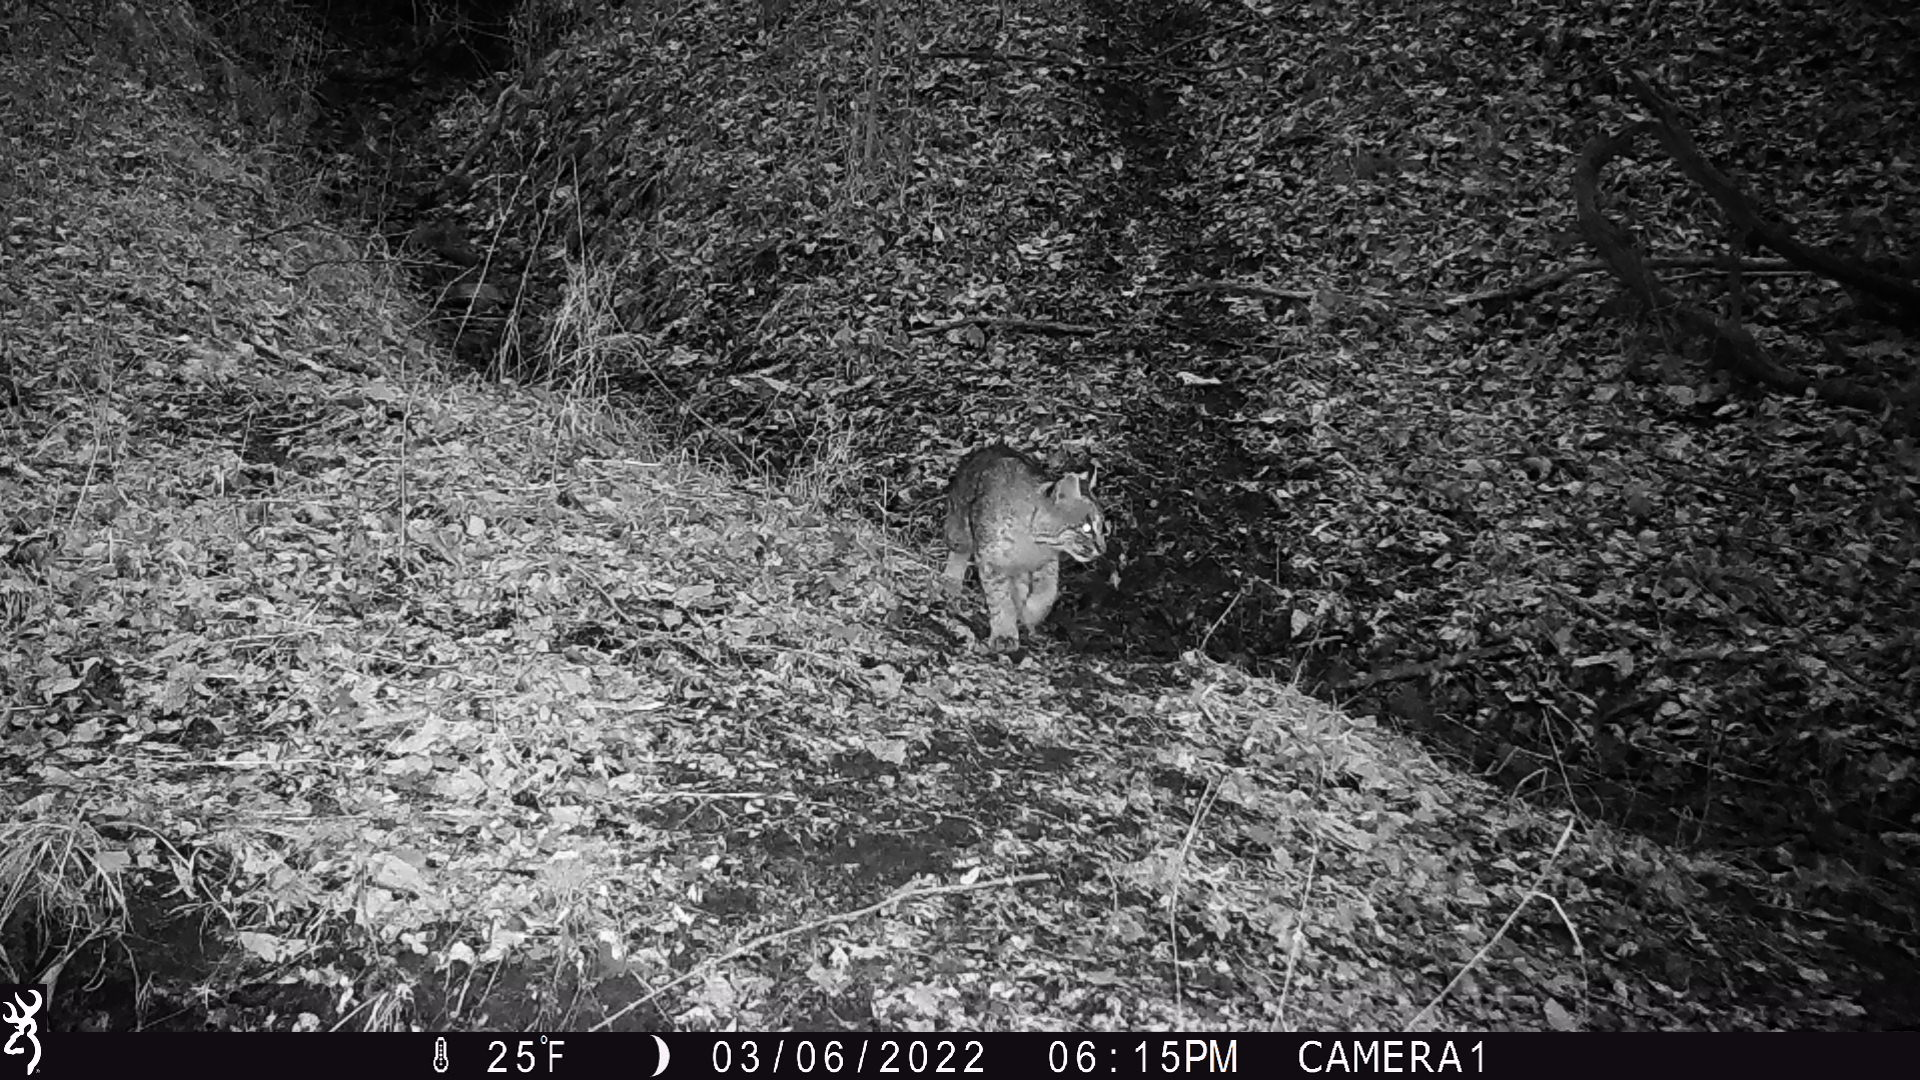Bobcat: (940, 443, 1110, 651)
